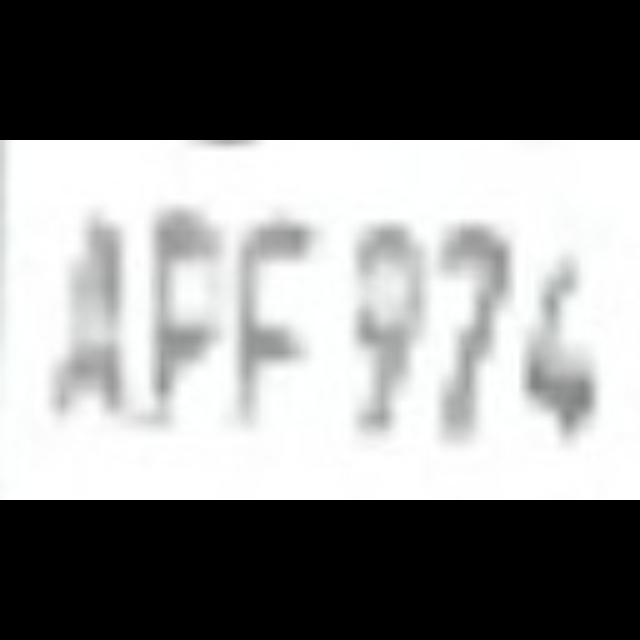4: (530, 175, 630, 495)
7: (430, 175, 530, 495)
9: (332, 175, 432, 495)
A: (35, 175, 135, 495)
F: (132, 175, 232, 495), (232, 175, 332, 495)
